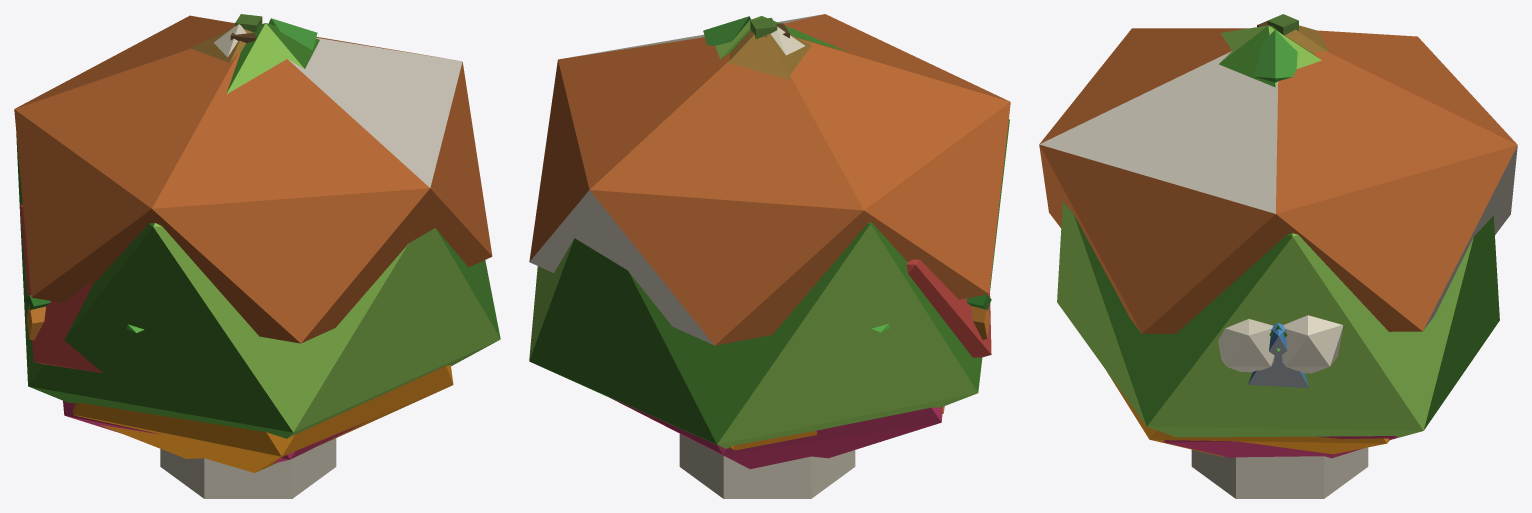
The model's file is food.fbx.
3 renders of one model, left to right at view 1: azimuth 30°, elevation 25°; view 2: azimuth 150°, elevation 25°; view 3: azimuth 270°, elevation 25°, orthographic.
Visible parts, largest first — view 1: food_Mushroom, food_Melon, food_Fruit, food_Meat, food_Berry, food_Seed; view 2: food_Mushroom, food_Melon, food_Berry, food_Meat, food_Seed, food_Fruit; view 3: food_Mushroom, food_Melon, food_Meat, food_Fruit, food_Berry, food_Fish, food_Seed.
Boxes of the visible parts, bbox=[...] form: food_Mushroom: bbox=[14, 15, 492, 498]; food_Melon: bbox=[16, 23, 500, 438]; food_Fruit: bbox=[73, 18, 453, 472]; food_Meat: bbox=[20, 204, 102, 373]; food_Berry: bbox=[63, 14, 365, 463]; food_Seed: bbox=[186, 28, 252, 62]; food_Mushroom: bbox=[529, 14, 1010, 498]; food_Melon: bbox=[529, 16, 1009, 448]; food_Berry: bbox=[609, 17, 942, 469]; food_Meat: bbox=[906, 259, 991, 357]; food_Seed: bbox=[728, 30, 811, 80]; food_Fruit: bbox=[703, 16, 944, 450]; food_Mushroom: bbox=[1039, 28, 1517, 498]; food_Melon: bbox=[1057, 25, 1499, 437]; food_Meat: bbox=[1218, 315, 1343, 373]; food_Fruit: bbox=[1107, 21, 1389, 456]; food_Berry: bbox=[1163, 14, 1397, 458]; food_Fish: bbox=[1248, 323, 1309, 387]; food_Seed: bbox=[1285, 25, 1329, 53].
Bounding box in the file's own units: 1 × 1 × 0.9562.
